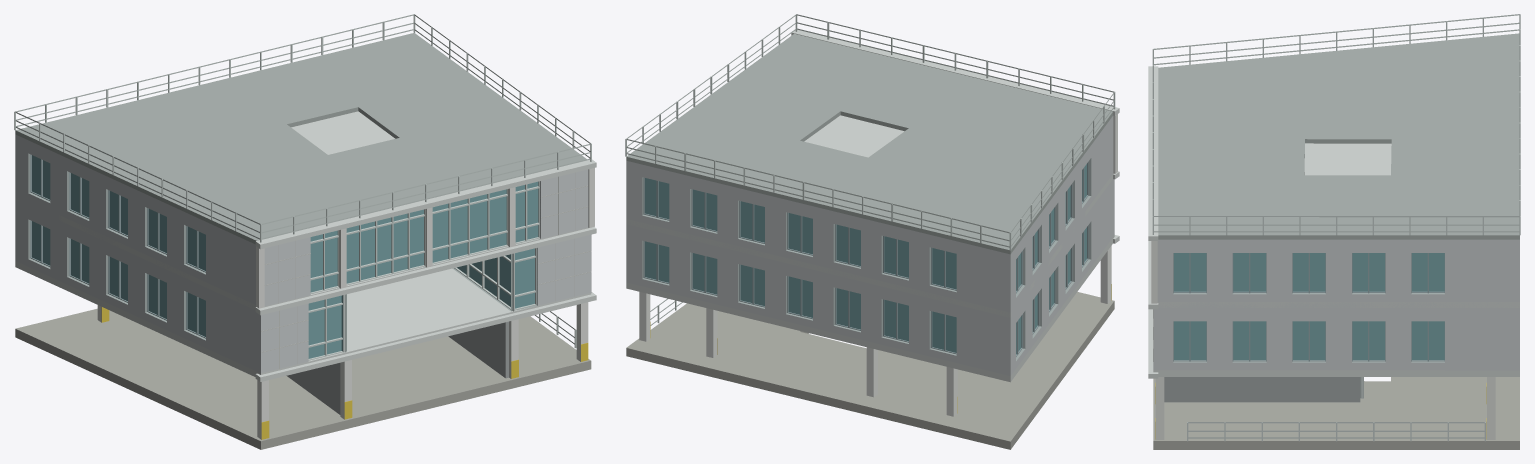
3 renders of one model, left to right at view 1: azimuth 30°, elevation 25°; view 2: azimuth 150°, elevation 25°; view 3: azimuth 270°, elevation 25°, orthographic. The views are drawn at different scales.
Parts seen in each view (by area): view 1: bi-3__roofSlab, bi-3__exactFoundation, bi-3__estimatedUpperSides_1, bi-3__lightFrame, bi-3__middleFloor, bi-3__upperMintGlass, bi-3__frontWhiteSlabBands, bi-3__estimatedUpperSides_1Glass, bi-3__middleOpaqueEnds, bi-3__upperOpaqueEnds, bi-3__upperFloor, bi-3__groundLobbySideWalls (+9 smaller); view 2: bi-3__roofSlab, bi-3__estimatedUpperSides_2, bi-3__exactFoundation, bi-3__estimatedUpperSides_2Glass, bi-3__estimatedUpperSides_1, bi-3__lightFrame, bi-3__upperFloor, bi-3__middleFloor, bi-3__estimatedUpperSides_2Frames, bi-3__groundPilotiColumns, bi-3__estimatedUpperSides_2Reveals, bi-3__frontWhiteSlabBands (+3 smaller); view 3: bi-3__roofSlab, bi-3__estimatedUpperSides_3, bi-3__exactFoundation, bi-3__estimatedUpperSides_3Glass, bi-3__lightFrame, bi-3__groundLobbySideWalls, bi-3__upperFloor, bi-3__middleFloor, bi-3__frontWhiteSlabBands, bi-3__estimatedUpperSides_3Frames, bi-3__groundPilotiColumns, bi-3__estimatedUpperSides_3Reveals (+1 smaller).
Part boxes in pixels (x1,y1,x2,y2): bi-3__roofSlab: [15, 33, 586, 244]; bi-3__exactFoundation: [15, 308, 591, 449]; bi-3__estimatedUpperSides_1: [15, 134, 260, 372]; bi-3__lightFrame: [14, 14, 591, 360]; bi-3__middleFloor: [15, 261, 591, 376]; bi-3__upperMintGlass: [310, 181, 538, 292]; bi-3__frontWhiteSlabBands: [255, 159, 596, 381]; bi-3__estimatedUpperSides_1Glass: [32, 155, 205, 336]; bi-3__middleOpaqueEnds: [261, 234, 590, 372]; bi-3__upperOpaqueEnds: [264, 169, 588, 306]; bi-3__upperFloor: [15, 111, 588, 310]; bi-3__groundLobbySideWalls: [286, 321, 508, 414]; bi-3__roofSlab: [626, 33, 1112, 254]; bi-3__estimatedUpperSides_2: [626, 161, 1010, 375]; bi-3__exactFoundation: [626, 292, 1114, 449]; bi-3__estimatedUpperSides_2Glass: [645, 178, 956, 352]; bi-3__estimatedUpperSides_1: [1010, 116, 1114, 375]; bi-3__lightFrame: [625, 14, 1115, 325]; bi-3__upperFloor: [626, 115, 1113, 317]; bi-3__middleFloor: [626, 235, 1114, 382]; bi-3__estimatedUpperSides_2Frames: [643, 177, 956, 354]; bi-3__groundPilotiColumns: [639, 246, 1111, 416]; bi-3__estimatedUpperSides_2Reveals: [642, 177, 956, 355]; bi-3__frontWhiteSlabBands: [791, 29, 1119, 243]; bi-3__roofSlab: [1158, 33, 1519, 239]; bi-3__estimatedUpperSides_3: [1153, 239, 1519, 370]; bi-3__exactFoundation: [1153, 377, 1519, 449]; bi-3__estimatedUpperSides_3Glass: [1174, 253, 1444, 359]; bi-3__lightFrame: [1152, 14, 1520, 441]; bi-3__groundLobbySideWalls: [1164, 377, 1360, 402]; bi-3__upperFloor: [1157, 143, 1519, 307]; bi-3__middleFloor: [1153, 370, 1519, 376]; bi-3__frontWhiteSlabBands: [1148, 66, 1158, 378]; bi-3__estimatedUpperSides_3Frames: [1173, 253, 1444, 361]; bi-3__groundPilotiColumns: [1155, 377, 1495, 439]; bi-3__estimatedUpperSides_3Reveals: [1173, 293, 1444, 362].
Bounding box in the file's own units: 24.29 × 13.01 × 18.75.
